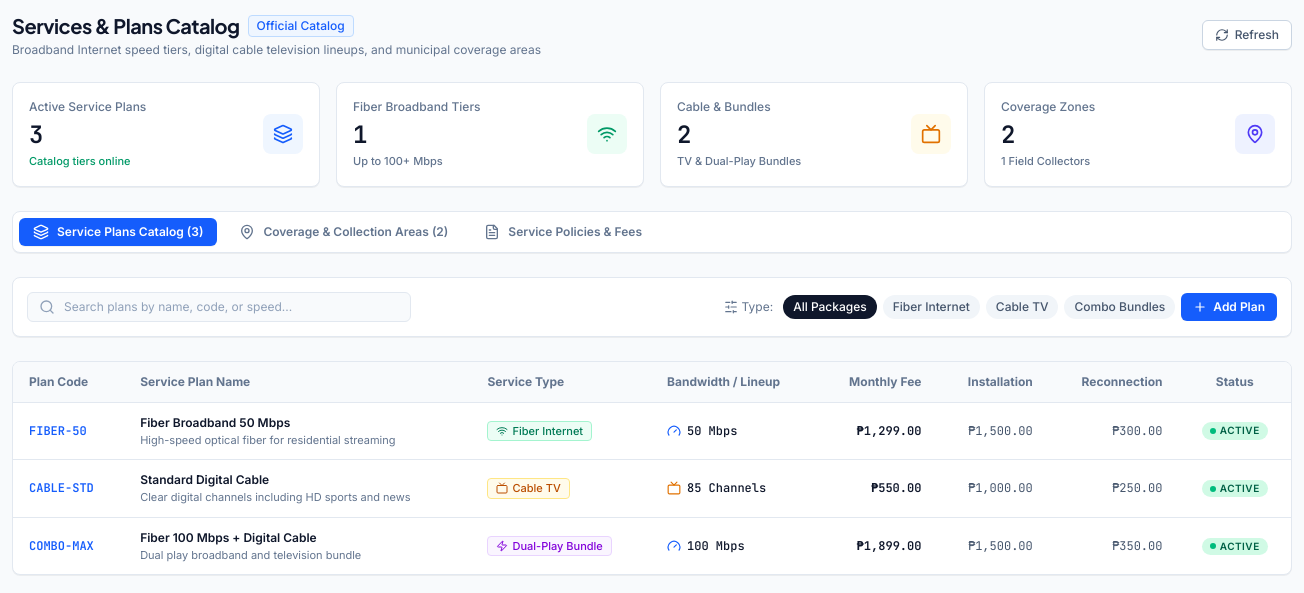
Test: ServicesPage Component (Phase 2 & Desktop Navigation) › switches to Service Policies & Fees tab
The width and height of the screenshot is (1304, 593).
Expected: the text "FIBER-50" is shown, [13,402,124,460]
Click the button with test id "tab-policies" at (563, 232), box [470,218,656,246]
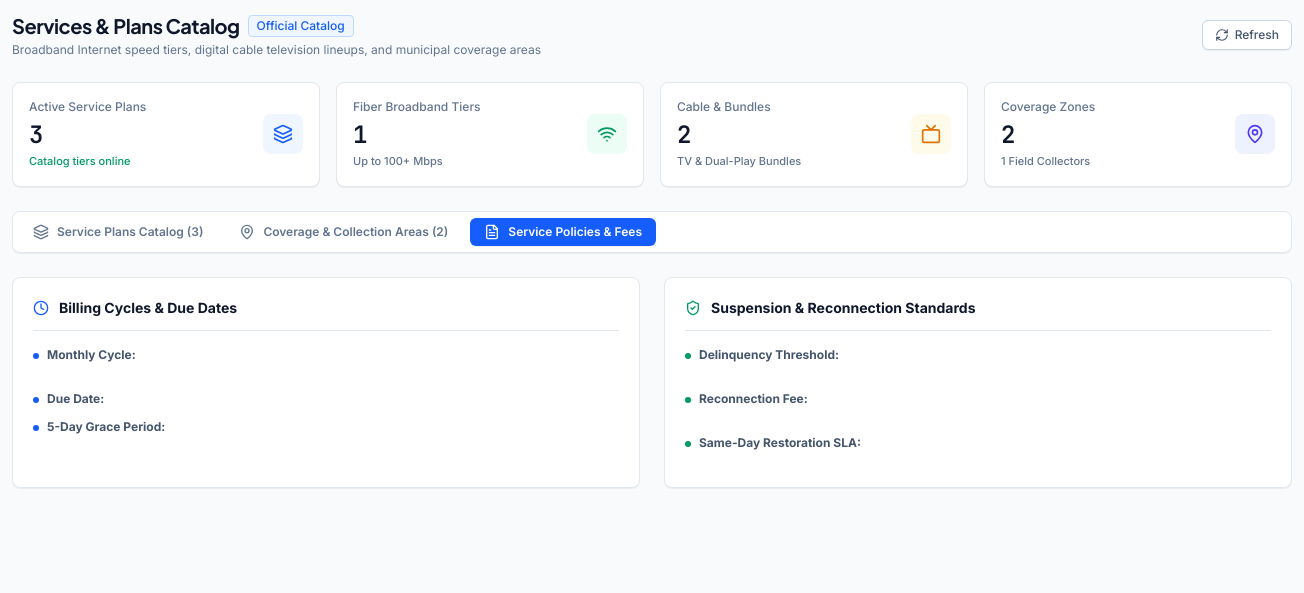
Expected: the text "Billing Cycles & Due Dates" is shown, [59,298,237,318]
Expected: the text "Suspension & Reconnection Standards" is shown, [711,298,976,318]
